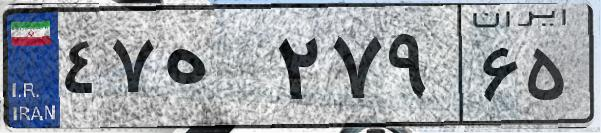2: (270, 28, 330, 110)
4: (57, 26, 110, 100)
5: (525, 38, 570, 115)
6: (475, 38, 525, 113)
7: (330, 28, 385, 110), (110, 28, 158, 98)
9: (385, 28, 445, 110)
ه: (158, 20, 270, 120)
